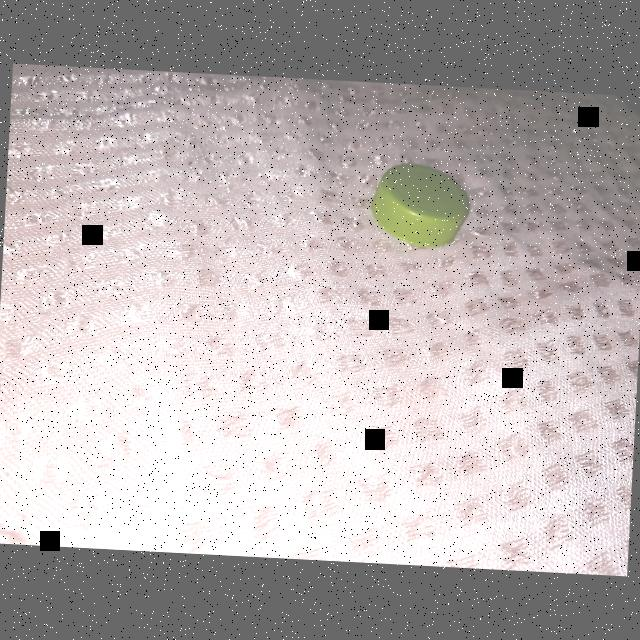plastic_bottle_cap: (368, 162, 472, 250)
